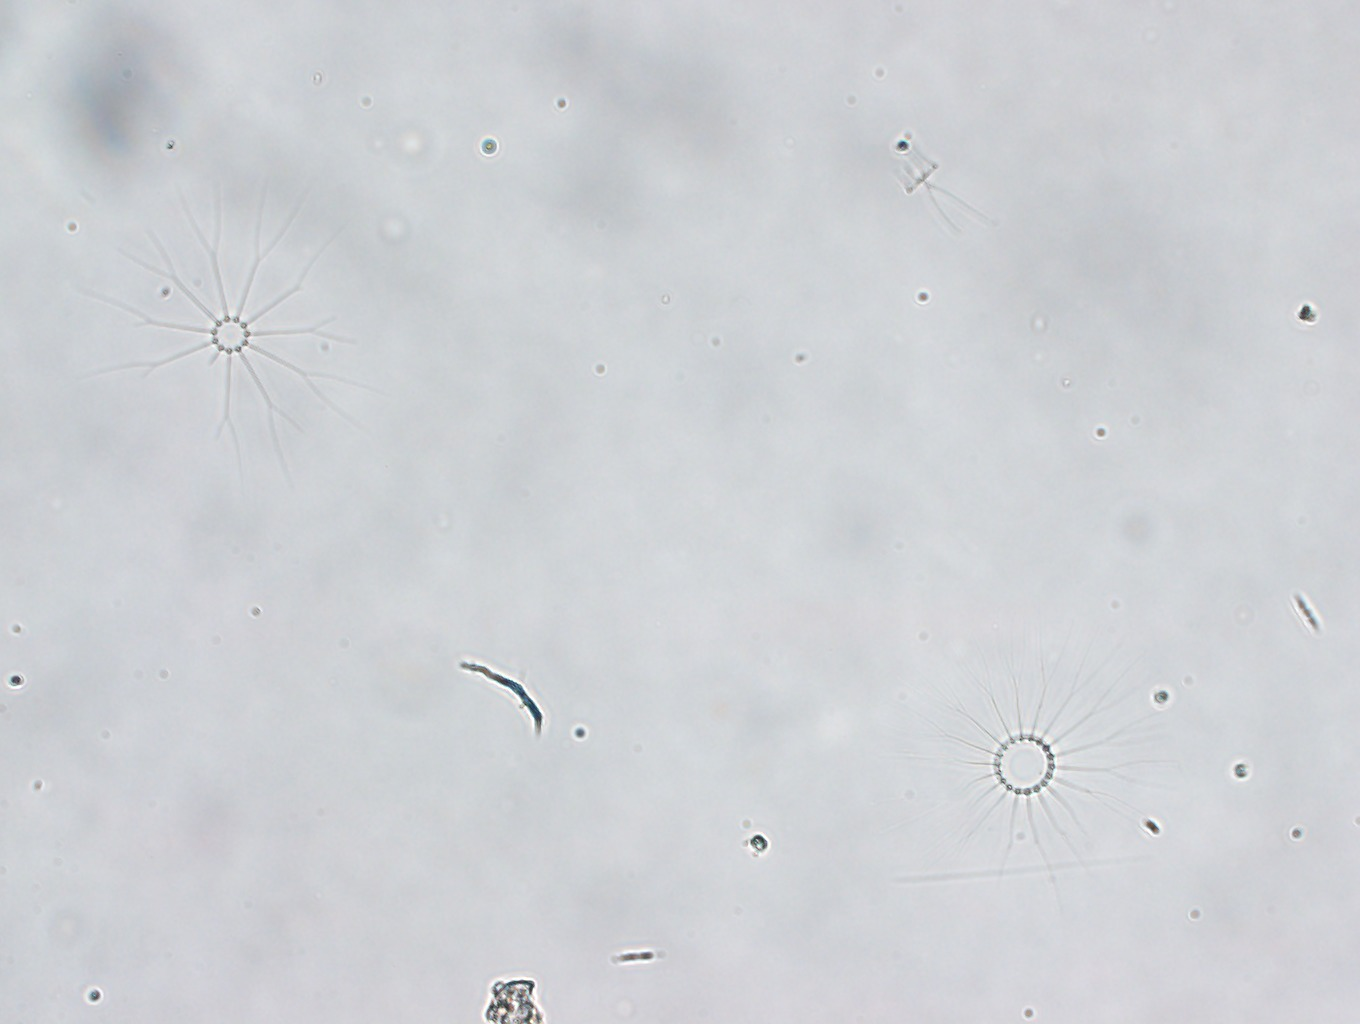bacteriastrum: (68, 182, 377, 483), (894, 634, 1186, 898)
